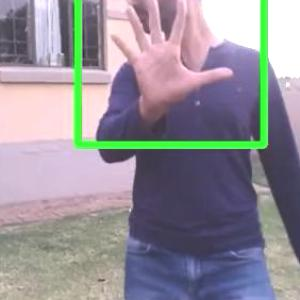follow_hand: (105, 0, 238, 108)
